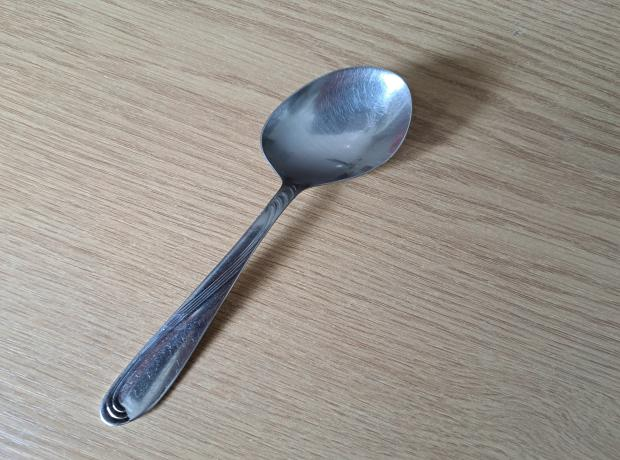metal: (98, 61, 418, 428)
